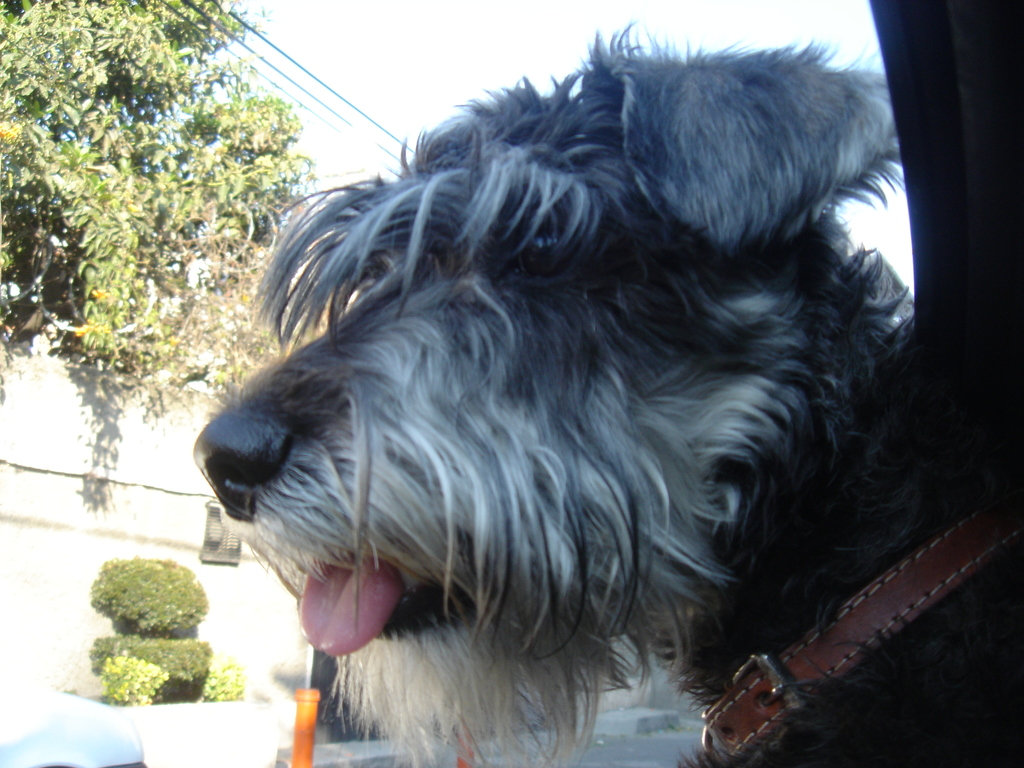Tree: (0, 0, 311, 421), (83, 554, 248, 705)
